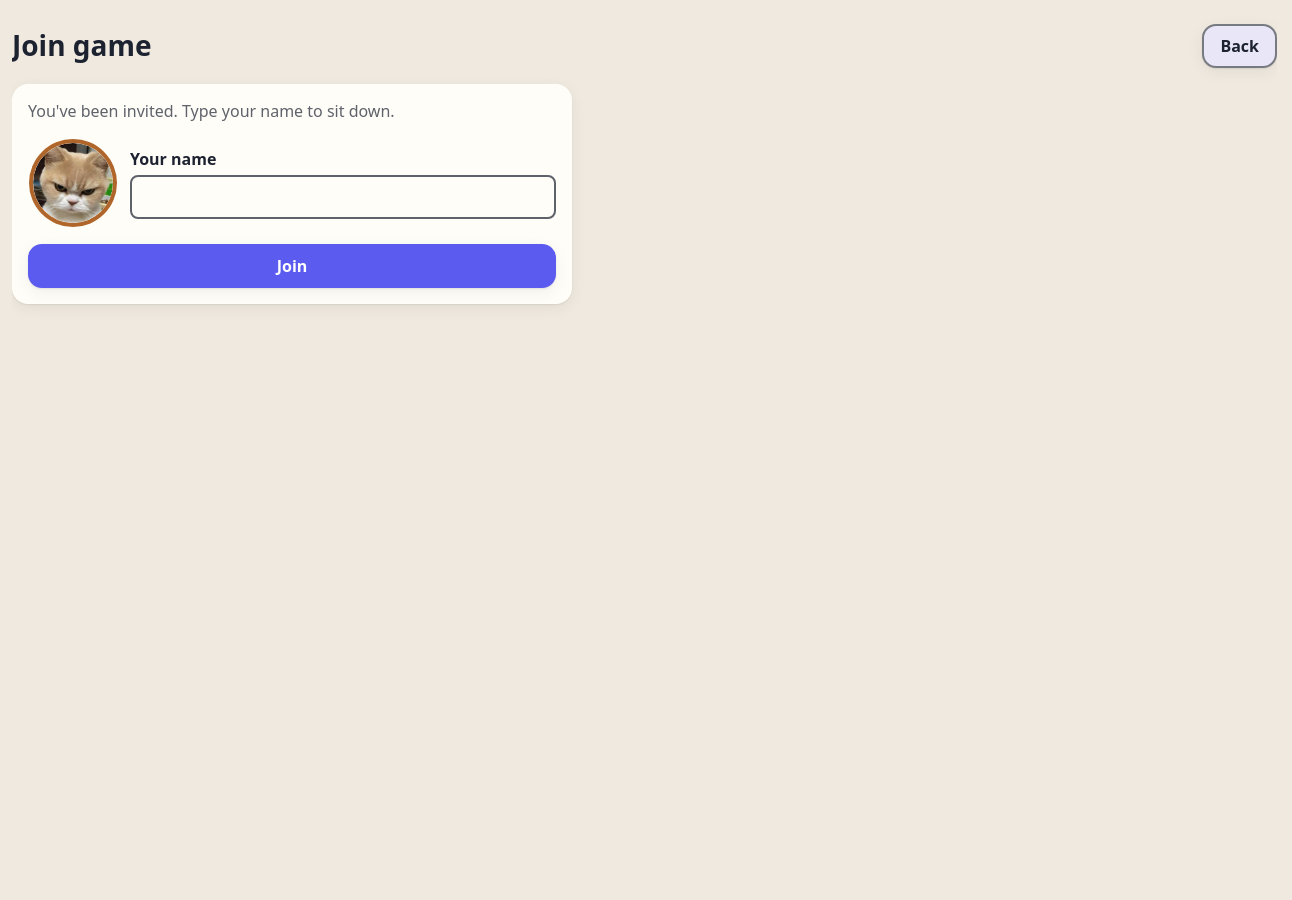
Test case: InviteJoin › a tampered key shows 'Link is invalid or expired.'
Type "Cleo" into the field labelled "Your name" at (343, 197), box top-left (130, 175), bottom-right (556, 219)
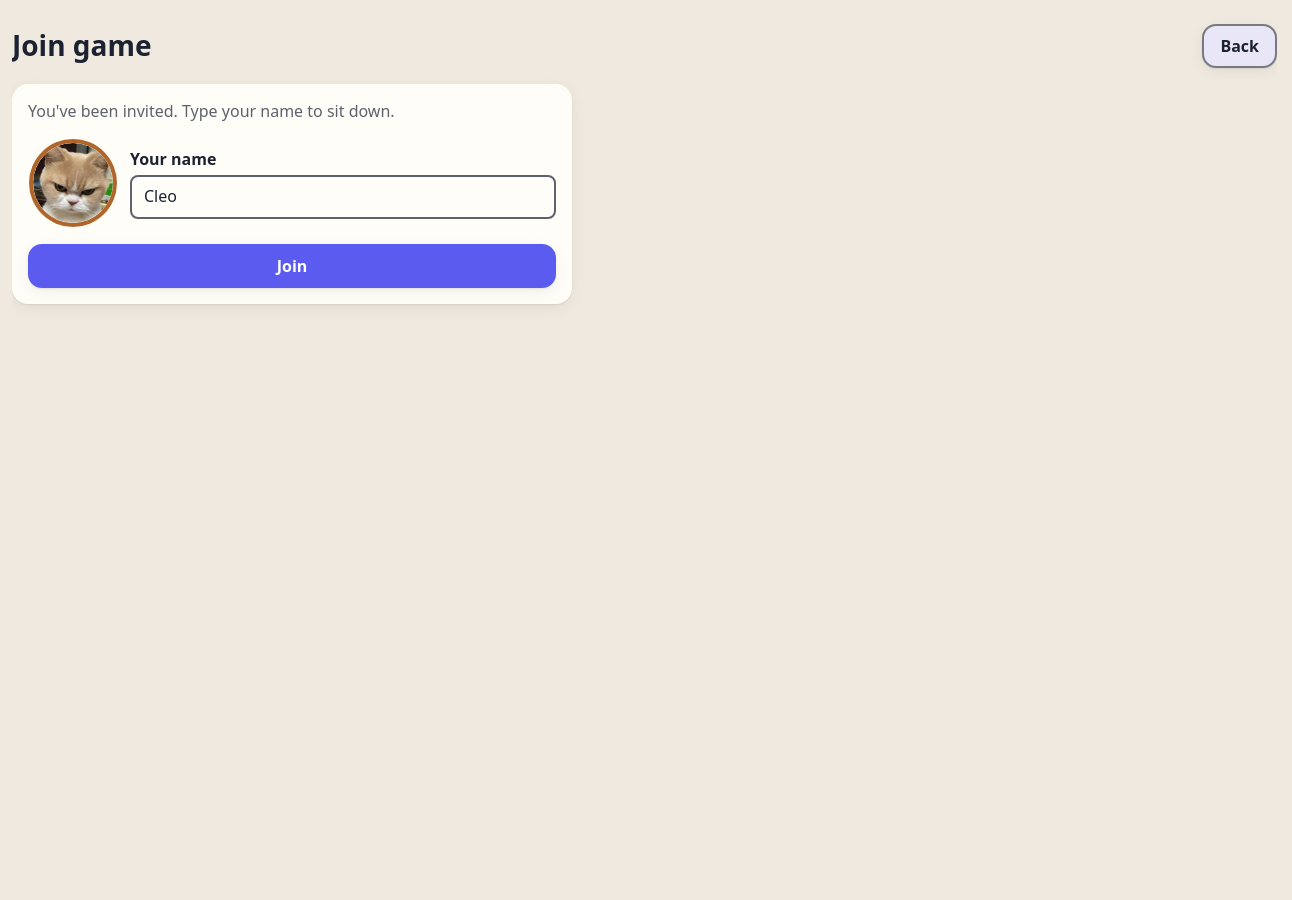
Click the button "Join" at (292, 266), box top-left (28, 244), bottom-right (556, 288)
(page scrolled)
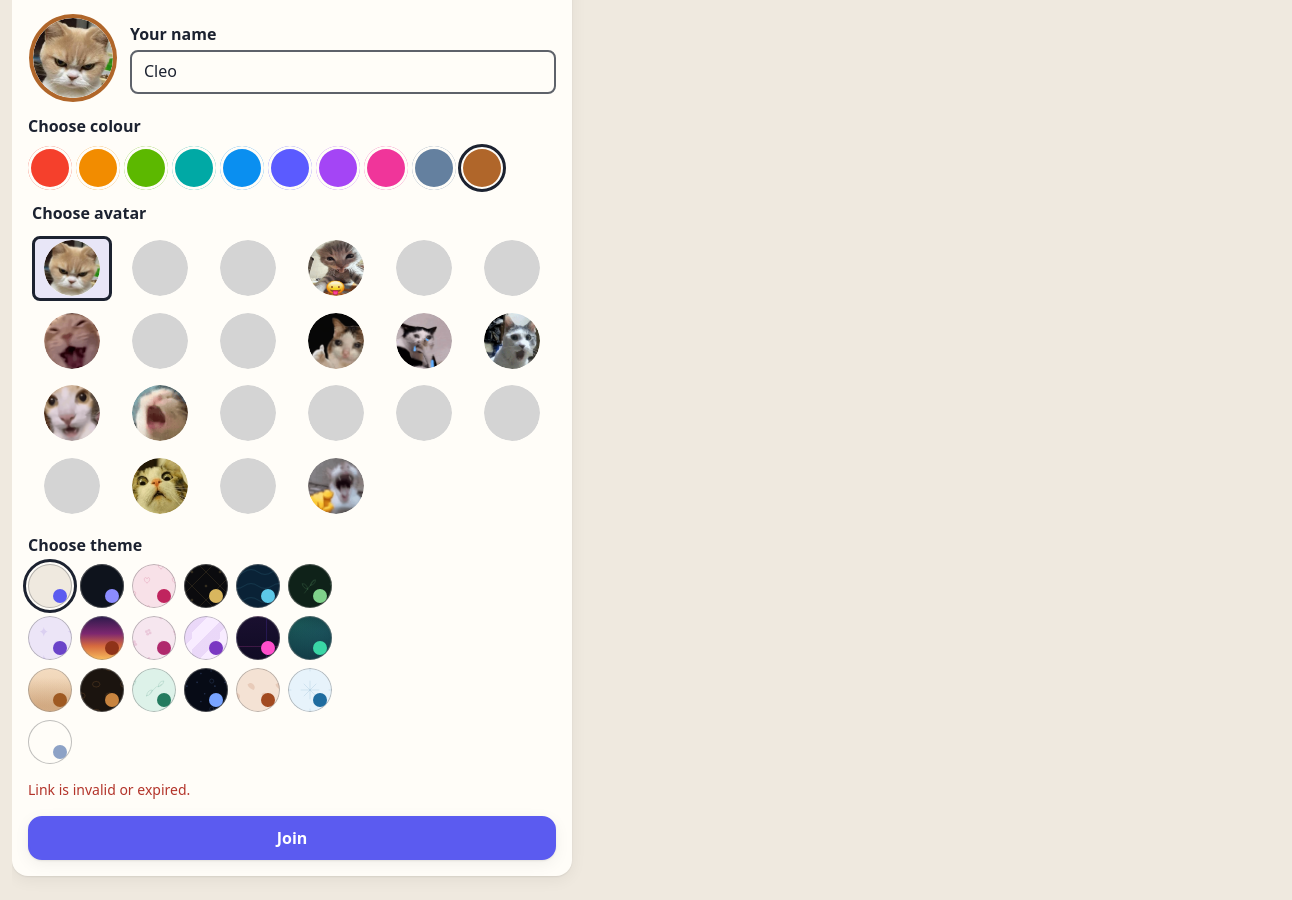
Check: the text "Link is invalid or expired." is shown, box top-left (28, 780), bottom-right (190, 799)
